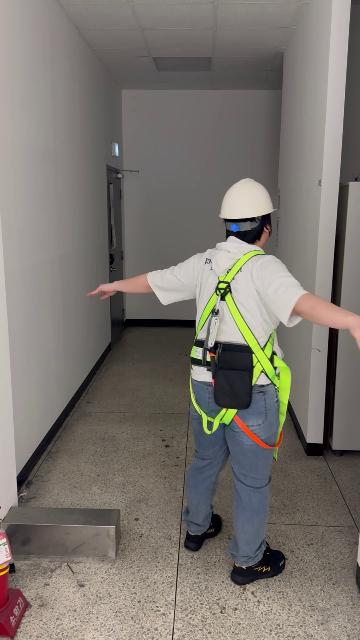helmet_worn: (219, 178, 274, 247)
shoe_worn: (231, 548, 289, 586), (182, 516, 224, 552)
vest_worn: (189, 247, 291, 450)
